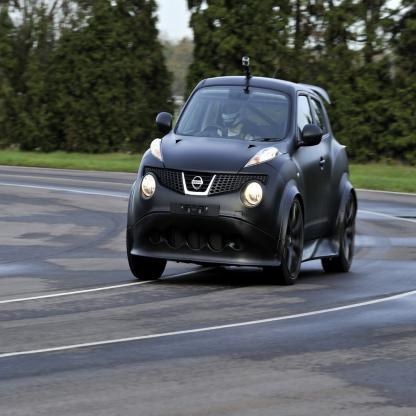Vehicle: (126, 52, 360, 288)
